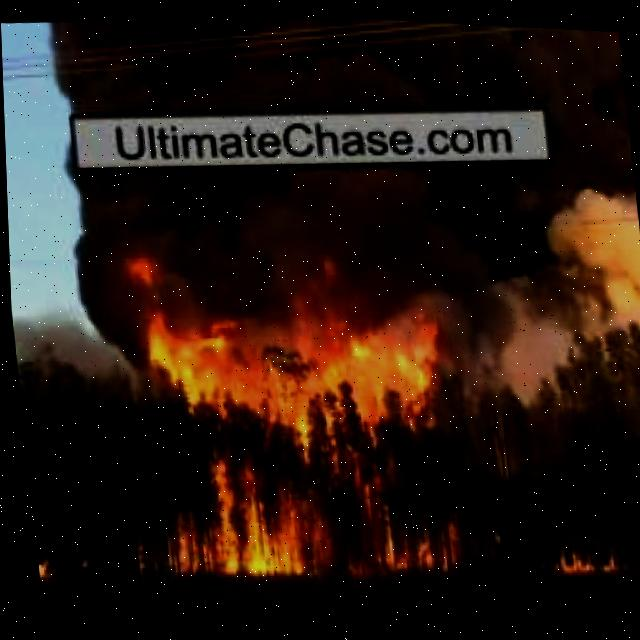Fire: (117, 226, 465, 586), (548, 529, 622, 571), (32, 554, 53, 594)
Smoke: (46, 2, 626, 130), (65, 131, 639, 260)
